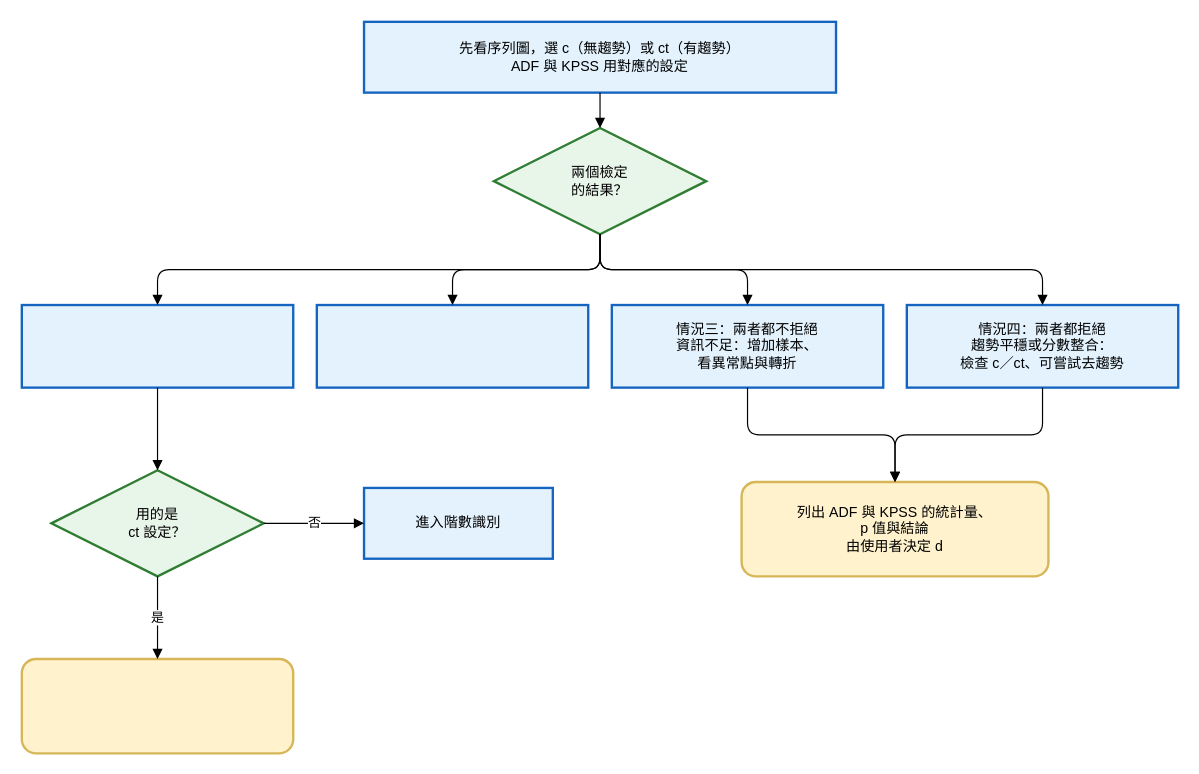
Image size: 1199x774. Some labels were removed from this diagram. Each missing label, with the centre of its shape:
"情況一：ADF 拒絕、KPSS 不拒絕 平穩，d = 0" belongs at (157,345).
"情況二：ADF 不拒絕、KPSS 拒絕 非平穩：差分後重新看圖、 重選 c／ct、再檢定" belongs at (452,345).
"趨勢平穩：先處理趨勢 不能直接以 d = 0 配 ARMA 由使用者決定做法" belongs at (157,705).
